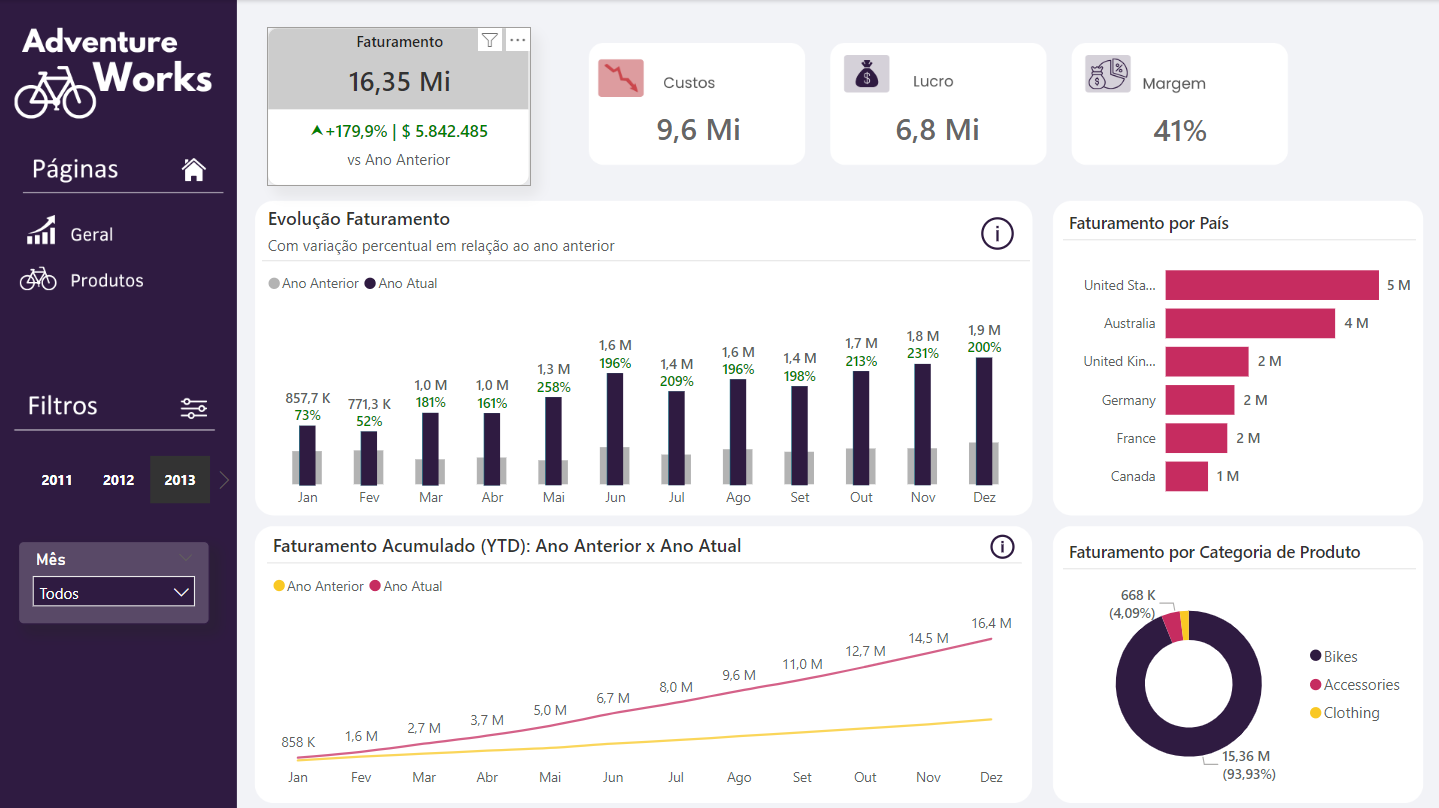

The page's visual inventory and layout, read from the dashboard file:
{"tool":"powerbi","page":{"name":"Geral","canvas":[1280,720],"ordinal":0},"visuals":[{"type":"card","fields":{"Values":["Tabela.03 Lucro Bruto"]},"box":[741.3,89.6,183.5,50.5],"z":0},{"type":"card","fields":{"Values":["Tabela.04 Margem Bruta"]},"box":[954.1,94.9,188.9,41.7],"z":1000},{"type":"clusteredBarChart","title":"Faturamento por País","fields":{"Category":["DimSalesTerritory.SalesTerritoryCountry"],"Y":["Tabela.01 Receita Dinâmica"]},"box":[944.3,187.1,313,266.9],"z":2000},{"type":"donutChart","title":"Faturamento por Categoria de Produto","fields":{"Category":["DimProductCategory.EnglishProductCategoryName"],"Y":["Tabela.01 Receita Dinâmica"]},"box":[944.3,478.8,313,227.9],"z":3000},{"type":"slicer","fields":{"Values":["dim_calendario.Ano"]},"box":[0,397.4,211.7,56.5],"z":4000},{"type":"slicer","fields":{"Values":["dim_calendario.Nome do Mês"]},"box":[17.4,479.9,170.4,73.8],"z":5000},{"type":"card","title":"Faturamento","fields":{"Values":["Tabela.# Cartao KPI"]},"box":[238.8,23.9,233.4,141.1],"z":8000},{"type":"card","title":"Custo","fields":{"Values":["Tabela.02 Custo Total"]},"box":[526.7,85.1,188.9,59.4],"z":9000},{"type":"lineClusteredColumnComboChart","title":"Evolução Faturamento","fields":{"Category":["dim_calendario.Mês abrev"],"Y":["Tabela.09 Sales YoY"],"Y2":["Tabela.# Rotulo Base"]},"box":[234.1,182.7,681,275.8],"z":11000},{"type":"actionButton","box":[866.3,187.1,41.7,39.9],"z":12000},{"type":"actionButton","box":[875.2,467.3,31,34.6],"z":13000},{"type":"actionButton","box":[17.7,228.8,115.3,36.4],"z":14000},{"type":"lineChart","title":"Faturamento Acumulado (YTD): Ano Anterior x Ano Atual","fields":{"Y":["Tabela.11 Sales YTD LY","Tabela.10 Sales YTD"],"Category":["dim_calendario.Mês abrev"]},"box":[238.5,472.6,669.5,234.1],"z":15001}]}

Visuals, with their boxes on the page's 1280x720 design canvas (x1, y1, x2, y2). These are canvas units, not pixel positions in the 1439x808 screenshot, which may show the page scaled, cropped or inside an application window:
card - Tabela.03 Lucro Bruto: bbox=[741, 90, 925, 140]
card - Tabela.04 Margem Bruta: bbox=[954, 95, 1143, 137]
"Faturamento por País" clusteredBarChart: bbox=[944, 187, 1257, 454]
"Faturamento por Categoria de Produto" donutChart: bbox=[944, 479, 1257, 707]
slicer - dim_calendario.Ano: bbox=[0, 397, 212, 454]
slicer - dim_calendario.Nome do Mês: bbox=[17, 480, 188, 554]
"Faturamento" card: bbox=[239, 24, 472, 165]
"Custo" card: bbox=[527, 85, 716, 144]
"Evolução Faturamento" lineClusteredColumnComboChart: bbox=[234, 183, 915, 458]
actionButton: bbox=[866, 187, 908, 227]
actionButton: bbox=[875, 467, 906, 502]
actionButton: bbox=[18, 229, 133, 265]
"Faturamento Acumulado (YTD): Ano Anterior x Ano Atual" lineChart: bbox=[238, 473, 908, 707]
